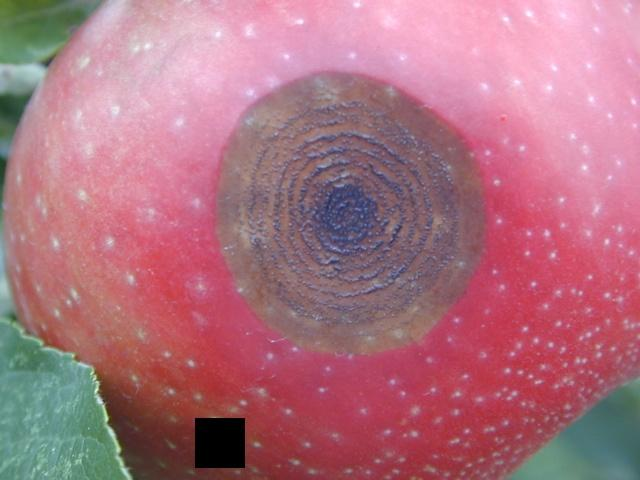rotten apple: (7, 3, 632, 474)
